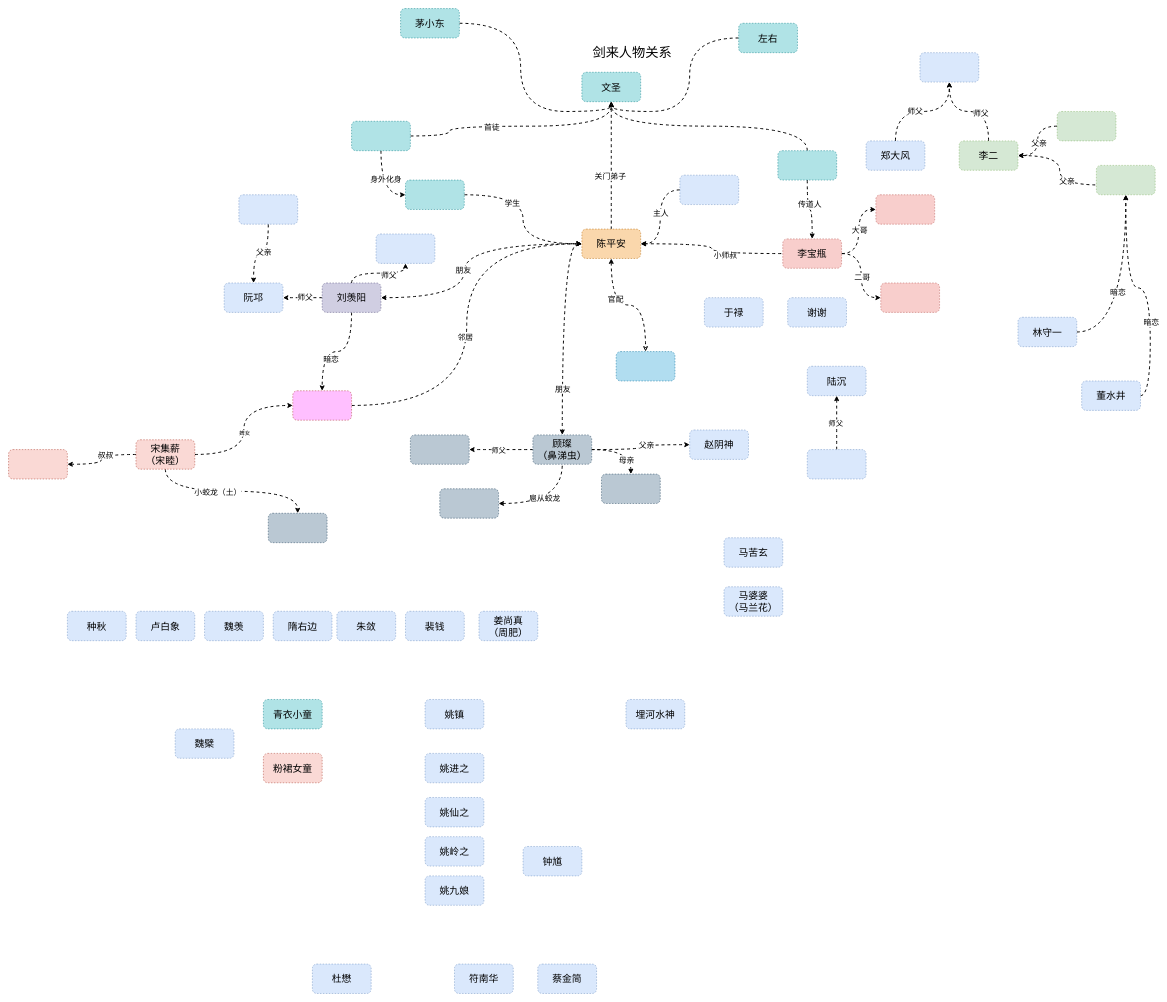
Image size: 1167x1002. Some labels were removed from this diagram. Here are the shapes that lost their labels. From the top down, the box of each, then its label:
(919, 52, 979, 82): 杨老头
(351, 121, 410, 151): 崔巉
(1057, 111, 1116, 141): 李槐
(777, 150, 837, 180): 齐景春
(1096, 165, 1155, 195): 李柳
(238, 194, 298, 224): 阮秀
(405, 180, 464, 209): 崔东山
(679, 175, 739, 205): 老剑条
(875, 194, 935, 224): 李希圣
(376, 233, 435, 263): 姚老头
(880, 282, 940, 312): 李宝箴
(616, 351, 675, 381): 宁姚
(292, 390, 352, 420): 稚圭 （王朱）
(8, 449, 67, 479): 宋长镜
(410, 434, 469, 464): 刘致茂
(807, 449, 866, 479): 贺小梁
(439, 488, 499, 518): 小泥鳅
(601, 474, 660, 503): 顾璨娘亲
(268, 513, 327, 543): 四脚蛇
